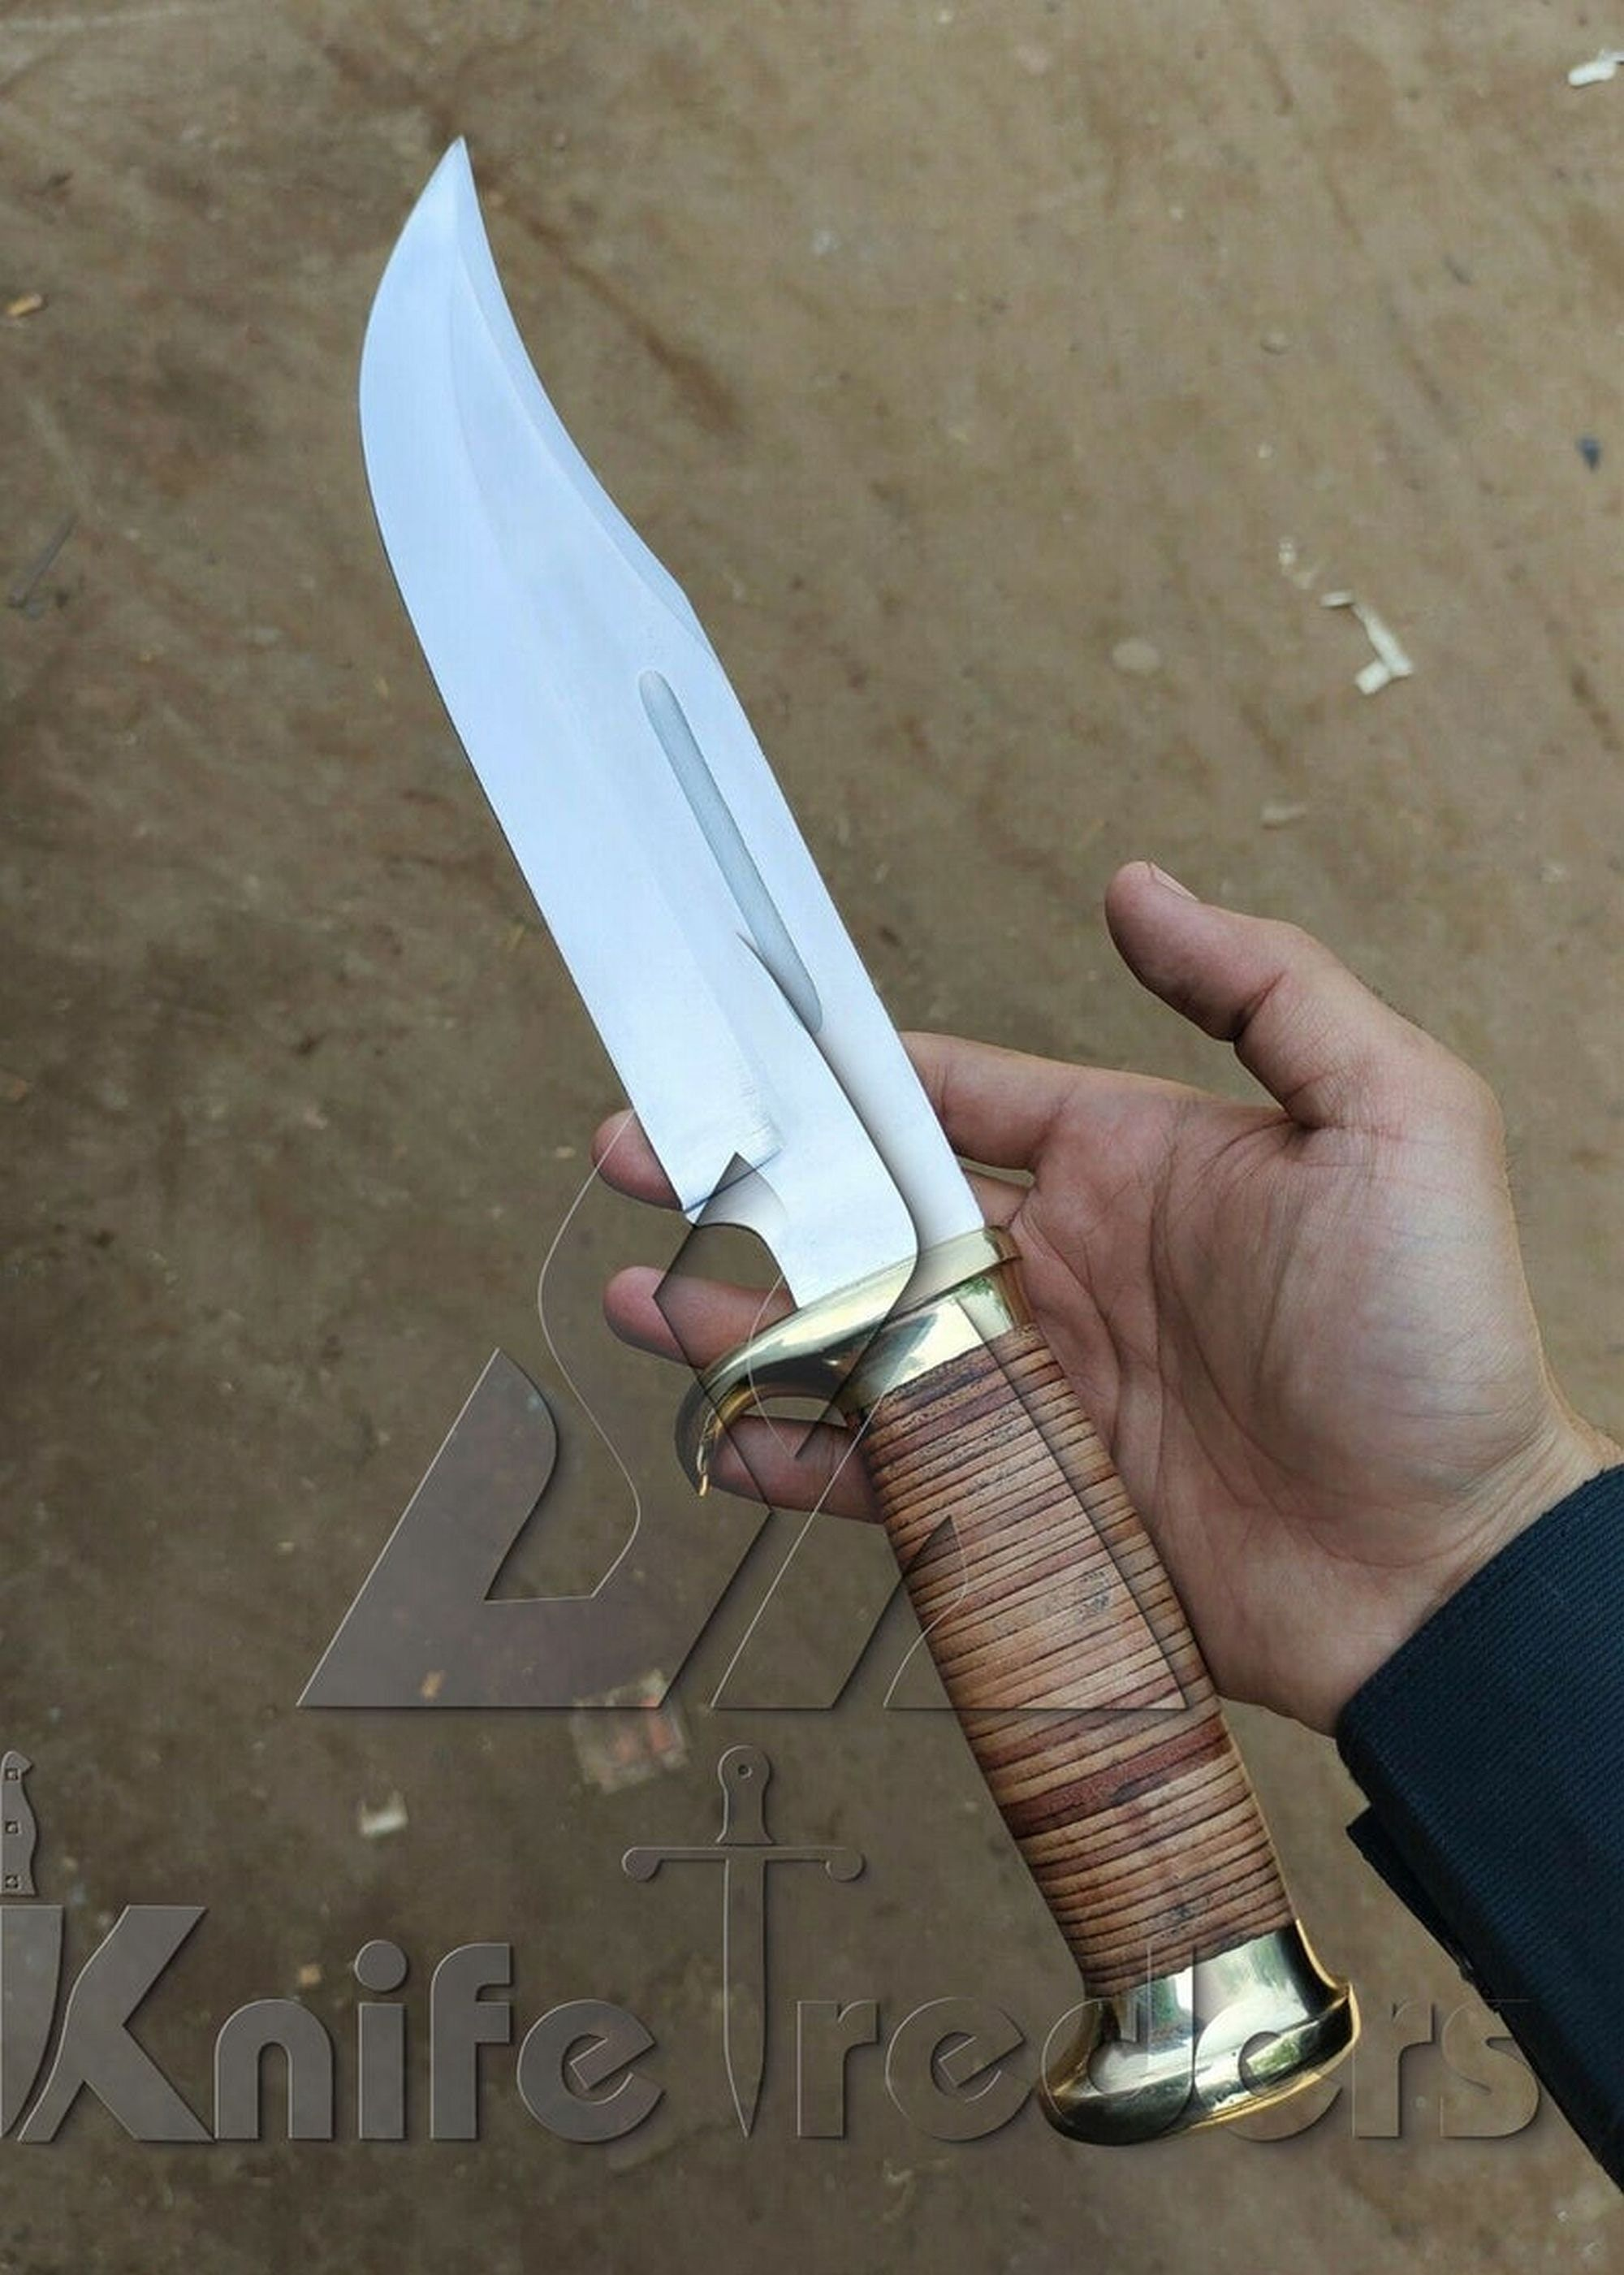knife: (313, 104, 1373, 2157)
